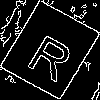R: (24, 25, 81, 84)
